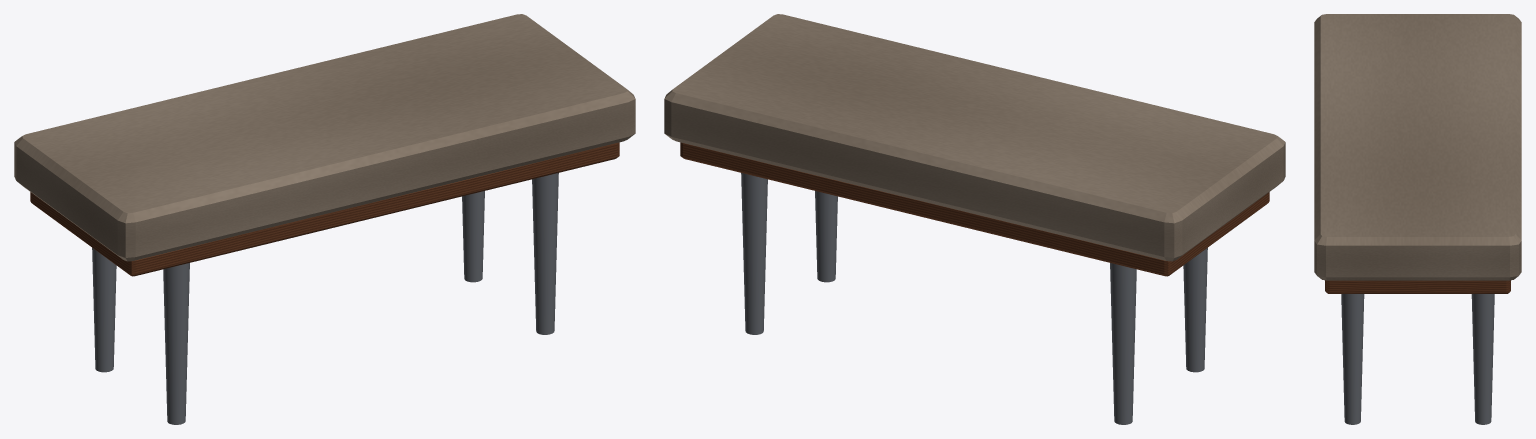
Rendered from bench_velvet.glb.
3 renders of one model, left to right at view 1: azimuth 30°, elevation 25°; view 2: azimuth 150°, elevation 25°; view 3: azimuth 270°, elevation 25°, orthographic. The views are drawn at different scales.
Visible parts, largest first — view 1: bench_velvet_fabricVelvet, bench_velvet_metalBlack, bench_velvet_woodWalnut; view 2: bench_velvet_fabricVelvet, bench_velvet_metalBlack, bench_velvet_woodWalnut; view 3: bench_velvet_fabricVelvet, bench_velvet_metalBlack, bench_velvet_woodWalnut.
Part boxes in pixels (bbox=[...]): bench_velvet_fabricVelvet: bbox=[14, 14, 635, 261]; bench_velvet_metalBlack: bbox=[92, 173, 558, 424]; bench_velvet_woodWalnut: bbox=[30, 142, 619, 276]; bench_velvet_fabricVelvet: bbox=[664, 14, 1285, 261]; bench_velvet_metalBlack: bbox=[741, 173, 1207, 424]; bench_velvet_woodWalnut: bbox=[680, 142, 1269, 276]; bench_velvet_fabricVelvet: bbox=[1314, 14, 1521, 280]; bench_velvet_metalBlack: bbox=[1341, 294, 1494, 424]; bench_velvet_woodWalnut: bbox=[1325, 280, 1510, 293].
Size of what is drawn, in the model's own units: 1.12 by 0.49 by 0.43.
3 materials, 2 textured.
